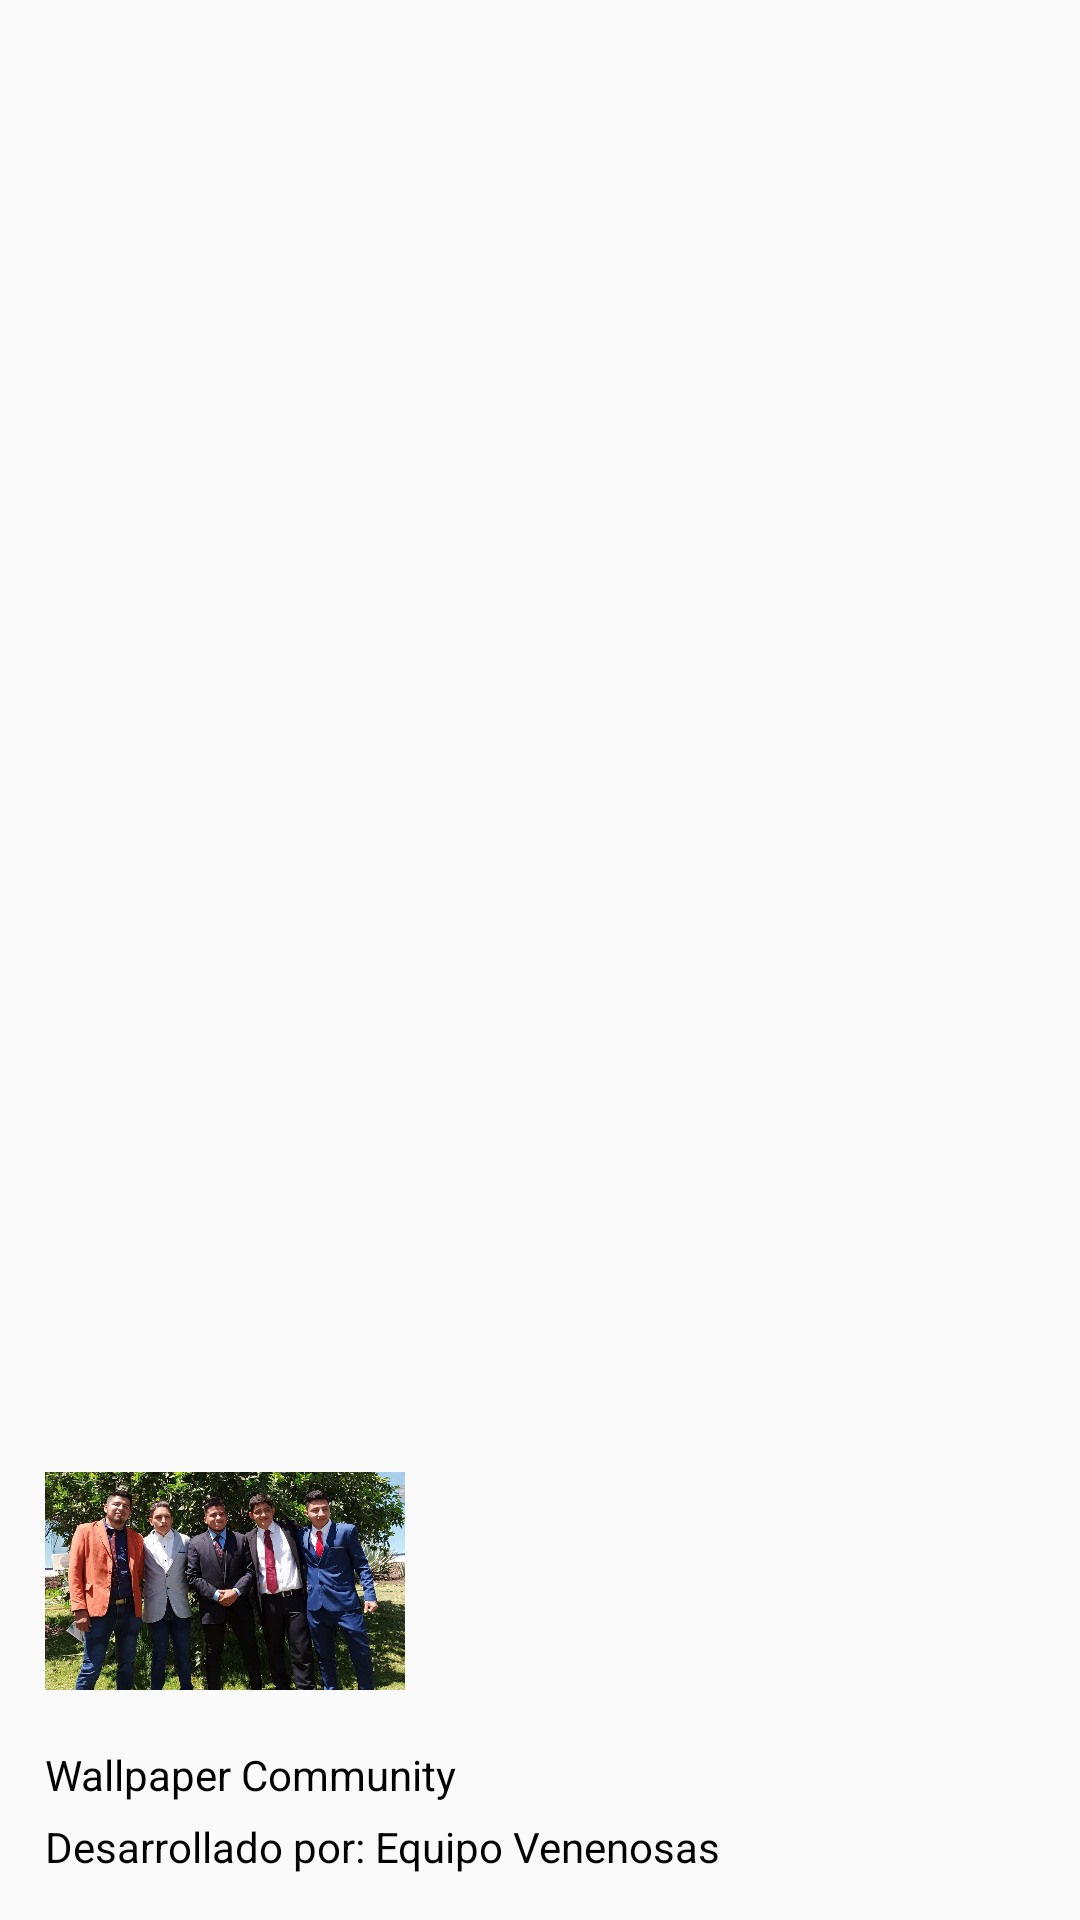

Named icons in this screenshot (1080px×1920px) and their centers, (x,y):
encabezado: (225,1581)
